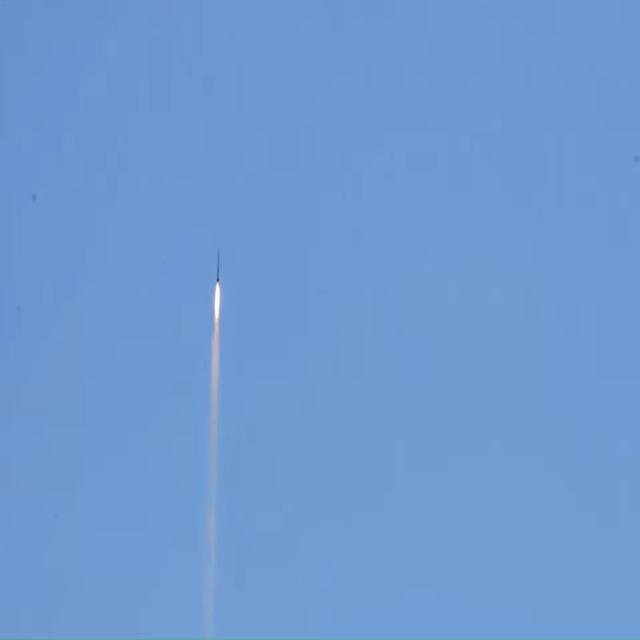Rocket: (216, 246, 220, 284)
